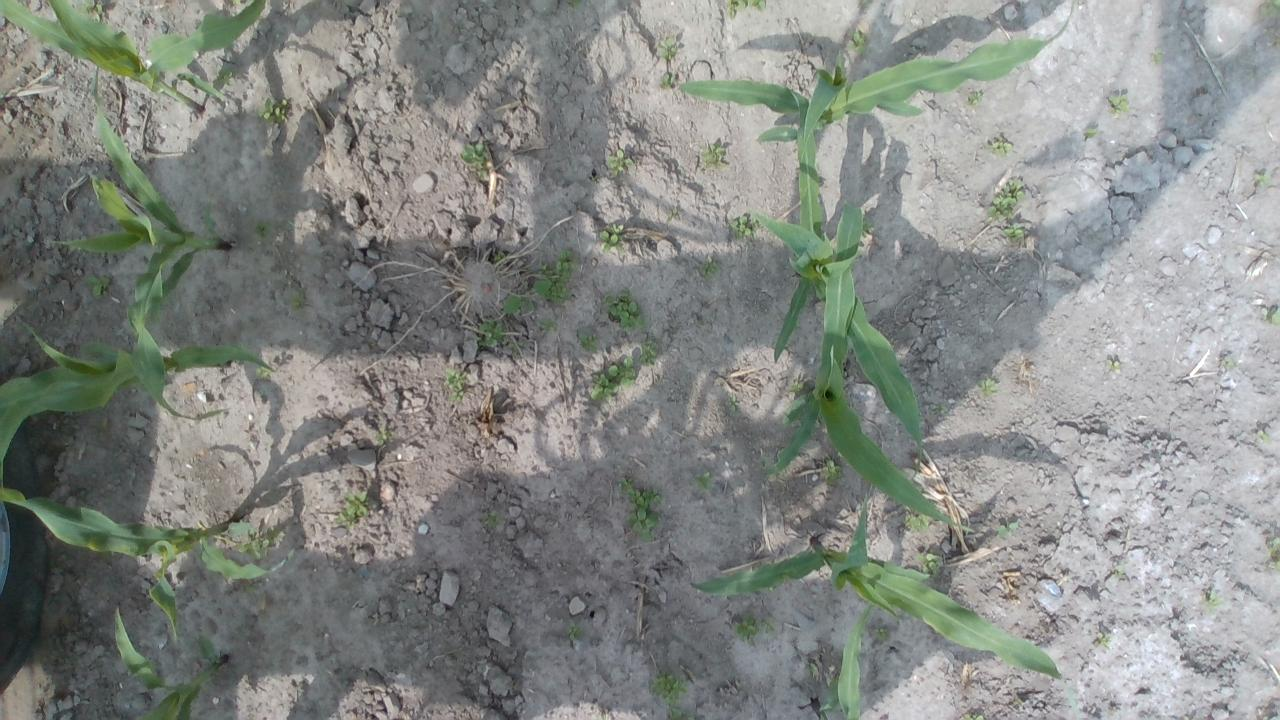Maize: (688, 490, 1082, 720), (762, 195, 974, 534), (749, 90, 925, 478), (51, 63, 237, 424), (676, 0, 1078, 143), (0, 486, 296, 648), (0, 314, 277, 487), (0, 0, 268, 113), (112, 603, 230, 720), (808, 602, 872, 720)
Weeds: (617, 476, 662, 542), (532, 248, 578, 304), (590, 357, 636, 403), (600, 287, 648, 331), (984, 177, 1026, 221), (332, 489, 370, 531), (238, 525, 280, 559), (650, 671, 690, 705), (459, 141, 490, 180), (502, 281, 536, 315), (474, 317, 508, 349), (731, 612, 760, 646), (440, 368, 468, 403), (727, 215, 762, 242), (256, 98, 290, 124), (598, 222, 626, 253), (724, 0, 766, 20), (605, 150, 635, 177), (699, 143, 728, 169), (85, 274, 111, 302), (248, 217, 278, 240), (636, 340, 662, 366), (285, 286, 309, 314), (914, 552, 941, 576), (76, 0, 103, 23), (903, 510, 930, 533), (212, 64, 240, 86), (656, 36, 678, 62), (822, 459, 842, 486), (848, 29, 868, 56), (698, 256, 720, 280), (986, 136, 1012, 156), (1002, 222, 1025, 244), (1266, 536, 1280, 572), (1203, 588, 1222, 614), (482, 510, 506, 530), (1108, 93, 1130, 114), (578, 332, 600, 353), (564, 620, 584, 642), (536, 316, 560, 334), (976, 378, 999, 396), (667, 706, 695, 720), (694, 472, 713, 492), (998, 521, 1018, 539), (508, 340, 528, 358), (1252, 171, 1272, 189), (789, 378, 810, 395), (1261, 0, 1280, 18), (253, 364, 274, 380), (759, 616, 777, 634), (658, 71, 676, 89), (1092, 632, 1112, 647), (860, 216, 874, 234), (374, 428, 389, 444), (1150, 46, 1163, 64), (873, 627, 888, 642), (928, 403, 948, 414), (968, 90, 982, 105), (1106, 358, 1122, 371), (728, 395, 739, 413), (1269, 307, 1280, 325), (1258, 430, 1272, 444), (1220, 357, 1236, 369), (667, 208, 680, 222), (958, 713, 983, 720), (806, 662, 816, 678), (1083, 128, 1099, 138), (1114, 564, 1125, 578), (494, 250, 506, 261), (242, 586, 256, 595), (566, 0, 582, 7), (860, 0, 872, 8), (698, 320, 708, 328), (1275, 37, 1280, 48)
